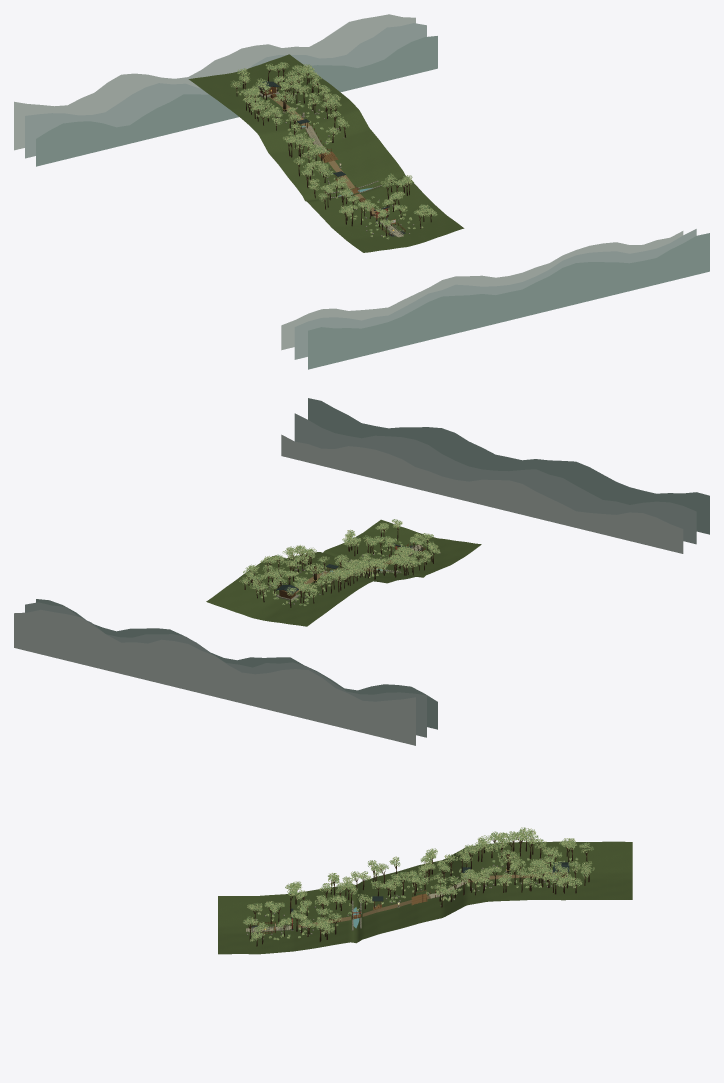
File: mountain15.glb
The picture shows the model from 3 angles, top to bottom: view 1: azimuth 30°, elevation 25°; view 2: azimuth 150°, elevation 25°; view 3: azimuth 270°, elevation 25°; orthographic projection. The views are drawn at different scales.
Visible parts, largest first — view 1: Environment, Environment_Mossy_Ground, Environment_Bark; view 2: Environment, Environment_Mossy_Ground, Environment_Bark; view 3: Environment_Mossy_Ground, Environment, Environment_Bark, Environment_Path_Sand.
Part boxes in pixels (box(x1,y1,x2,y2)): Environment: box(14, 14, 709, 369); Environment_Mossy_Ground: box(188, 54, 464, 252); Environment_Bark: box(234, 64, 432, 236); Environment: box(14, 398, 709, 745); Environment_Mossy_Ground: box(206, 519, 481, 626); Environment_Bark: box(244, 523, 435, 607); Environment_Mossy_Ground: box(218, 841, 632, 954); Environment: box(243, 827, 594, 941); Environment_Bark: box(248, 831, 589, 946); Environment_Path_Sand: box(298, 874, 551, 928).
Bounding box in the file's own units: 210 × 41.5 × 266.
31 materials, 12 textured.
